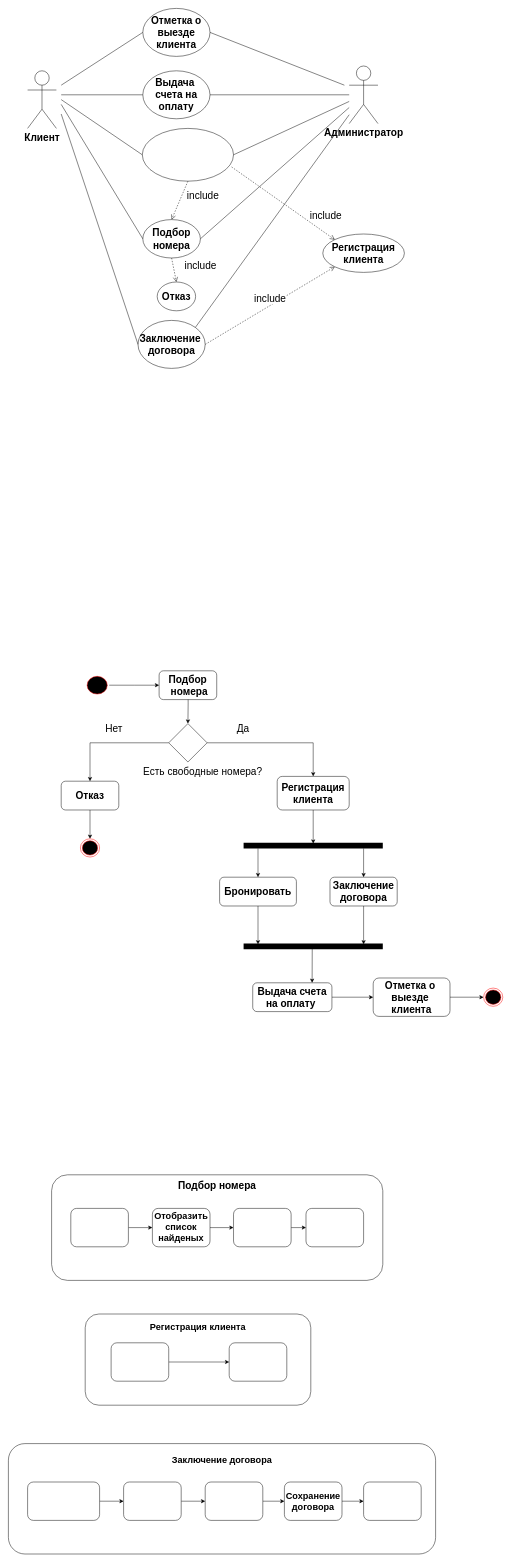
Image size: 511x1562. Some labels were removed from this diagram. Each missing label, with the centre of its shape:
"Бронирование номера" belongs at pixel 188 154.
"Ввести критерии поиска" belongs at pixel 99 1227.
"Ввод данных о клиенте" belongs at pixel 140 1361.
"Внесение в клиентскую базу" belongs at pixel 258 1361.
"Выбор номера из базы" belongs at pixel 234 1501.
"Отметить номер как занят" belongs at pixel 335 1227.
"Печать договора" belongs at pixel 392 1501.
"Поиск клиента в базе" belongs at pixel 152 1501.
"Поиск номера в базе" belongs at pixel 262 1227.
"Формирование договора" belongs at pixel 63 1501.
